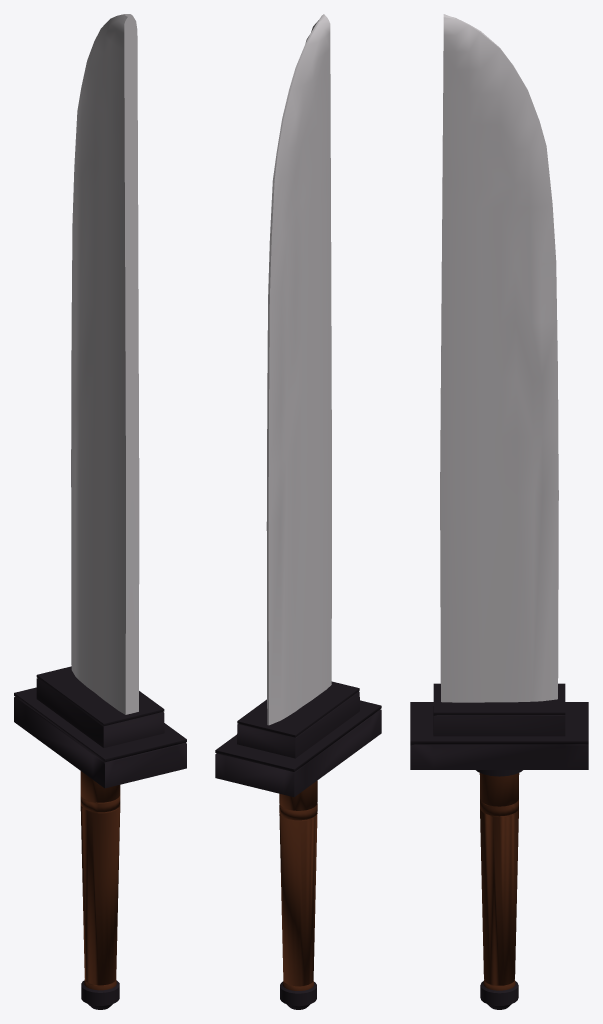
The model's file is Greatsword(Re).fbx.
3 renders of one model, left to right at view 1: azimuth 30°, elevation 25°; view 2: azimuth 150°, elevation 25°; view 3: azimuth 270°, elevation 25°, orthographic. The views are drawn at different scales.
Visible parts, largest first — view 1: Blade, Hilt, Handle, End; view 2: Blade, Hilt, Handle, End; view 3: Blade, Hilt, Handle, End.
Boxes of the visible parts, x1,y1,x2,y2 form: Blade: (71, 14, 139, 714); Hilt: (14, 666, 186, 788); Handle: (80, 771, 120, 990); End: (81, 980, 119, 1009); Blade: (266, 14, 331, 725); Hilt: (215, 681, 381, 797); Handle: (279, 780, 317, 990); End: (280, 981, 316, 1009); Blade: (440, 14, 558, 702); Hilt: (410, 683, 588, 776); Handle: (479, 773, 519, 990); End: (480, 981, 518, 1009).
Bounding box in the file's own units: 172 × 2030 × 330.
